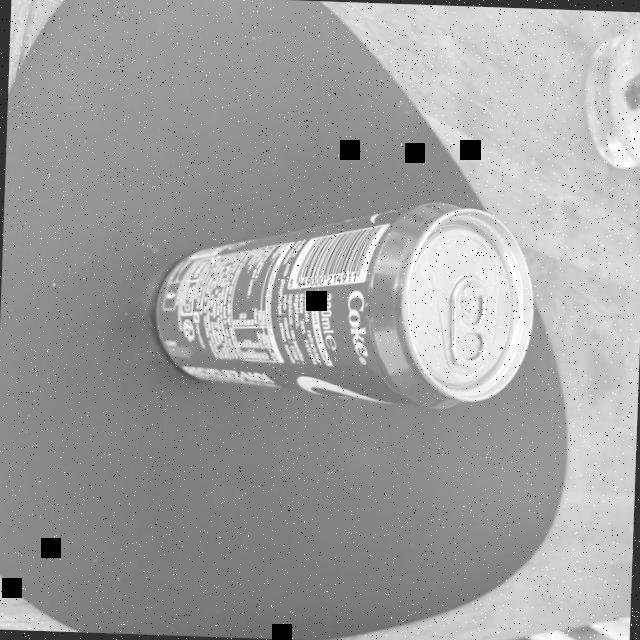can: (155, 188, 548, 430)
